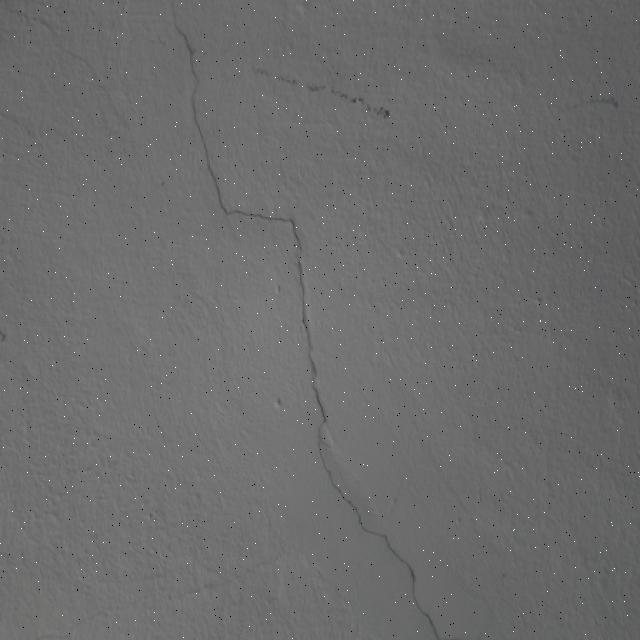moderate crack: (171, 3, 236, 235), (257, 63, 392, 120), (290, 222, 323, 394), (590, 94, 618, 107)
severe crack: (398, 566, 442, 634)
